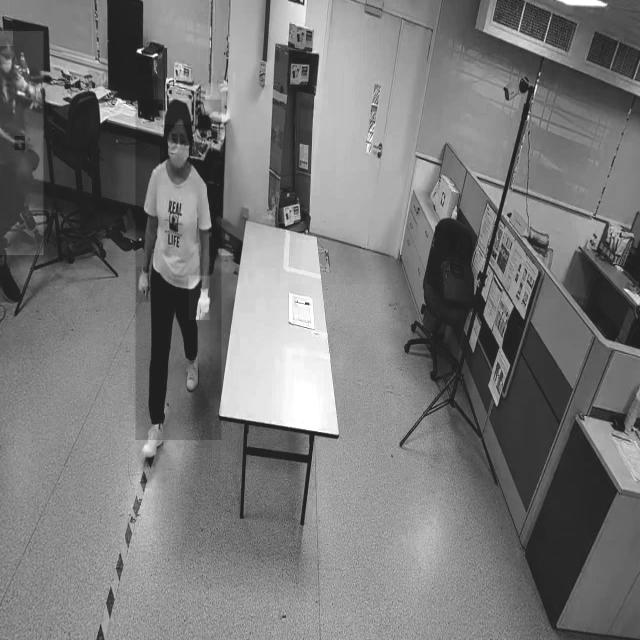face_mask: (161, 129, 193, 177), (2, 49, 16, 77)
hand_glove: (188, 275, 210, 321), (136, 267, 154, 303)
hand_noglove: (14, 136, 26, 151)
head_nohelmet: (163, 99, 192, 125), (0, 29, 14, 47)
person: (136, 99, 222, 441), (0, 31, 44, 256)
shoes: (139, 419, 167, 466), (181, 342, 203, 396)
